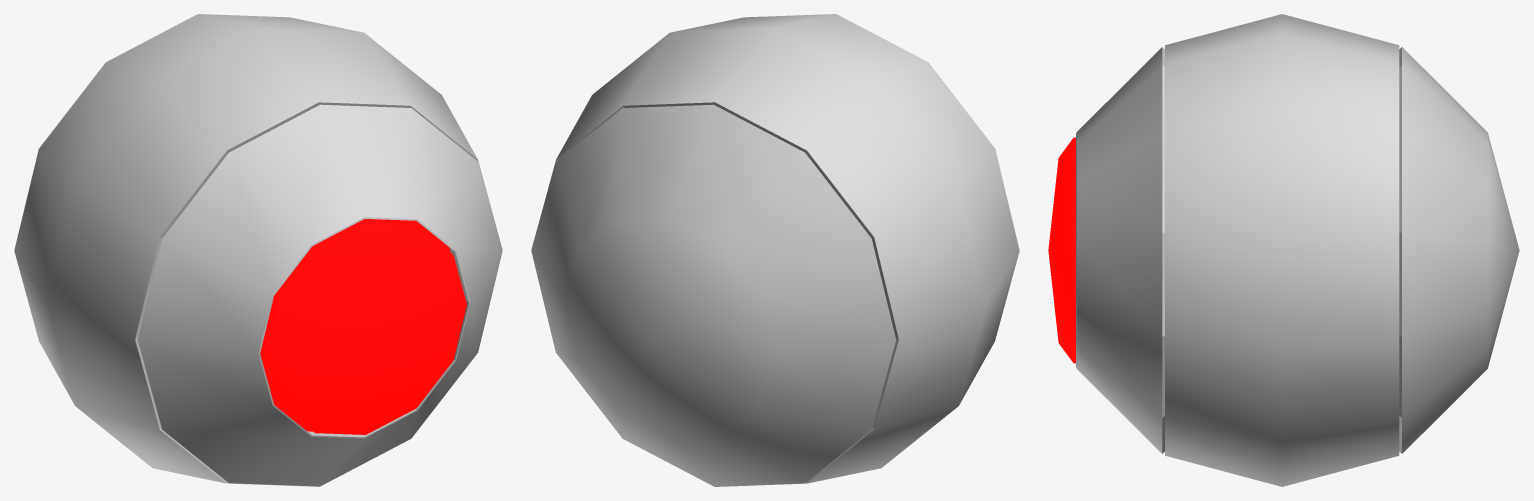
File: Inimigo02_Mapa08_DBZ.FBX
The picture shows the model from 3 angles, left to right: view 1: azimuth 30°, elevation 25°; view 2: azimuth 150°, elevation 25°; view 3: azimuth 270°, elevation 25°; orthographic projection. The views are drawn at different scales.
Parts seen in each view (by area): view 1: Sphere004; view 2: Sphere004; view 3: Sphere004.
Boxes of the visible parts, left/top/right/bottom form: Sphere004: left=14, top=14, right=502, bottom=486; Sphere004: left=531, top=14, right=1019, bottom=486; Sphere004: left=1048, top=14, right=1519, bottom=486.
Size of the model in its own units: 287 by 287 by 285.
